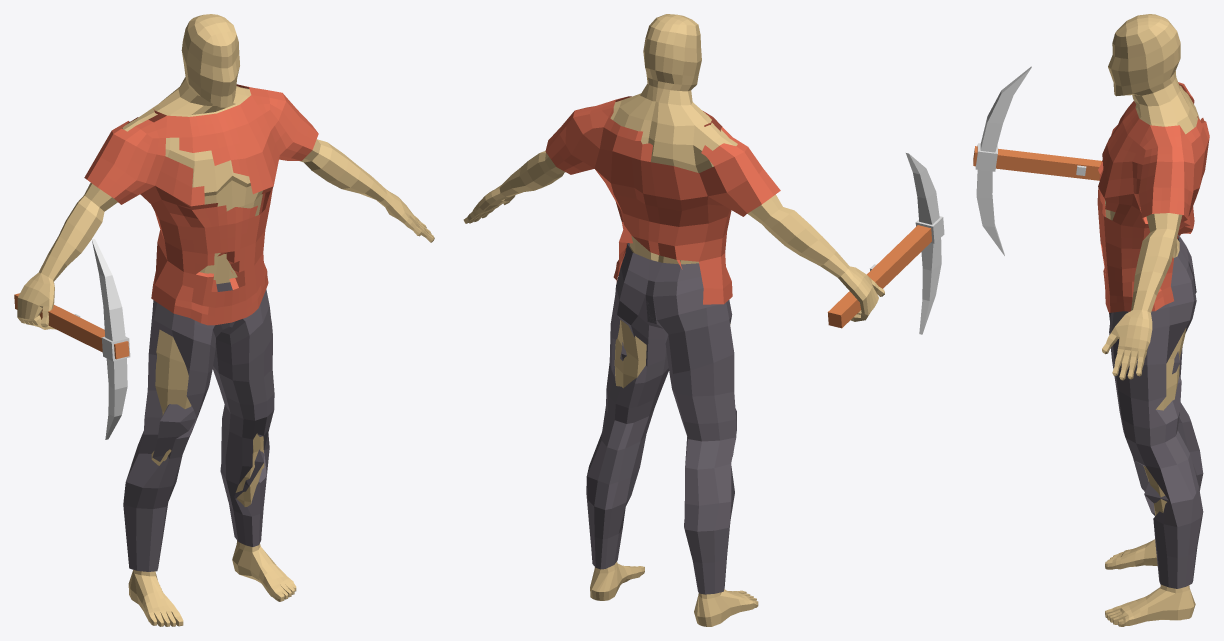
File: КАМЕНЬЩИК.fbx
3 views of the same model, side by side, from view 1: azimuth 30°, elevation 25°; view 2: azimuth 150°, elevation 25°; view 3: azimuth 270°, elevation 25° (orthographic).
Parts seen in each view (by area): view 1: Body.001, Body, Body.002, Cube.003, Cube.001; view 2: Body.002, Body, Body.001, Cube.003, Cube.001; view 3: Body, Body.002, Body.001, Cube.003, Cube.001, Cube.002.
Boxes of the visible parts, x1,y1,x2,y2 form: Body.001: [84, 84, 318, 325]; Body: [17, 14, 434, 626]; Body.002: [123, 282, 274, 571]; Cube.003: [92, 239, 127, 439]; Cube.001: [14, 293, 129, 359]; Body.002: [586, 243, 736, 594]; Body: [463, 14, 884, 626]; Body.001: [545, 96, 780, 304]; Cube.003: [906, 153, 941, 334]; Cube.001: [827, 225, 931, 328]; Body: [1102, 14, 1200, 626]; Body.002: [1109, 235, 1203, 588]; Body.001: [1097, 82, 1209, 313]; Cube.003: [976, 66, 1031, 255]; Cube.001: [973, 146, 1101, 180]; Cube.002: [975, 143, 997, 171].
Size of the model in its own units: 135 by 184 by 68.57.
